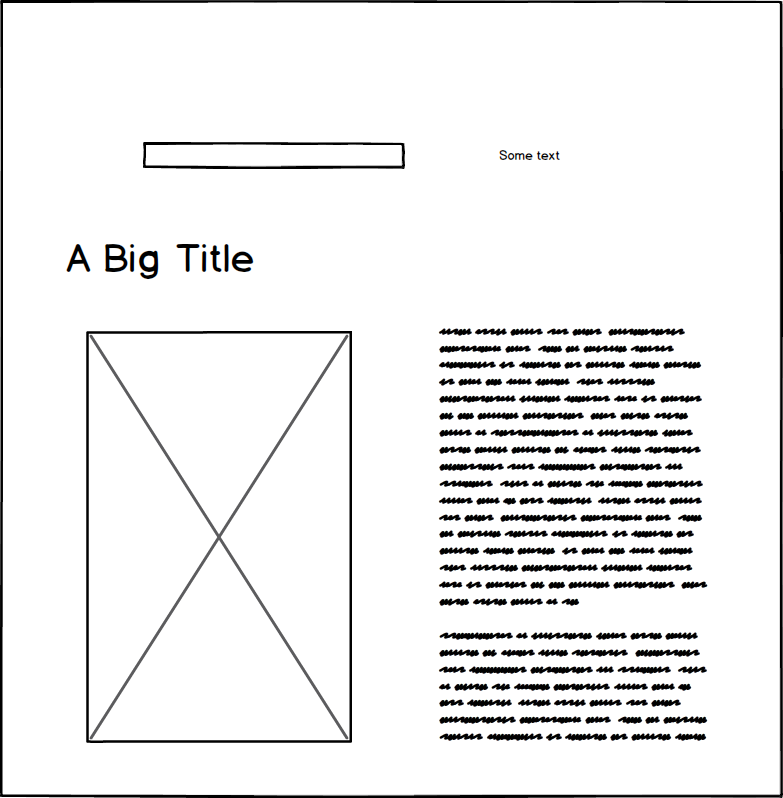h1: (61, 239, 259, 280)
image: (79, 327, 361, 751)
input: (140, 138, 411, 173)
label: (494, 146, 565, 165)
p: (431, 321, 715, 749)
